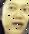without_mask: (1, 1, 29, 34)
